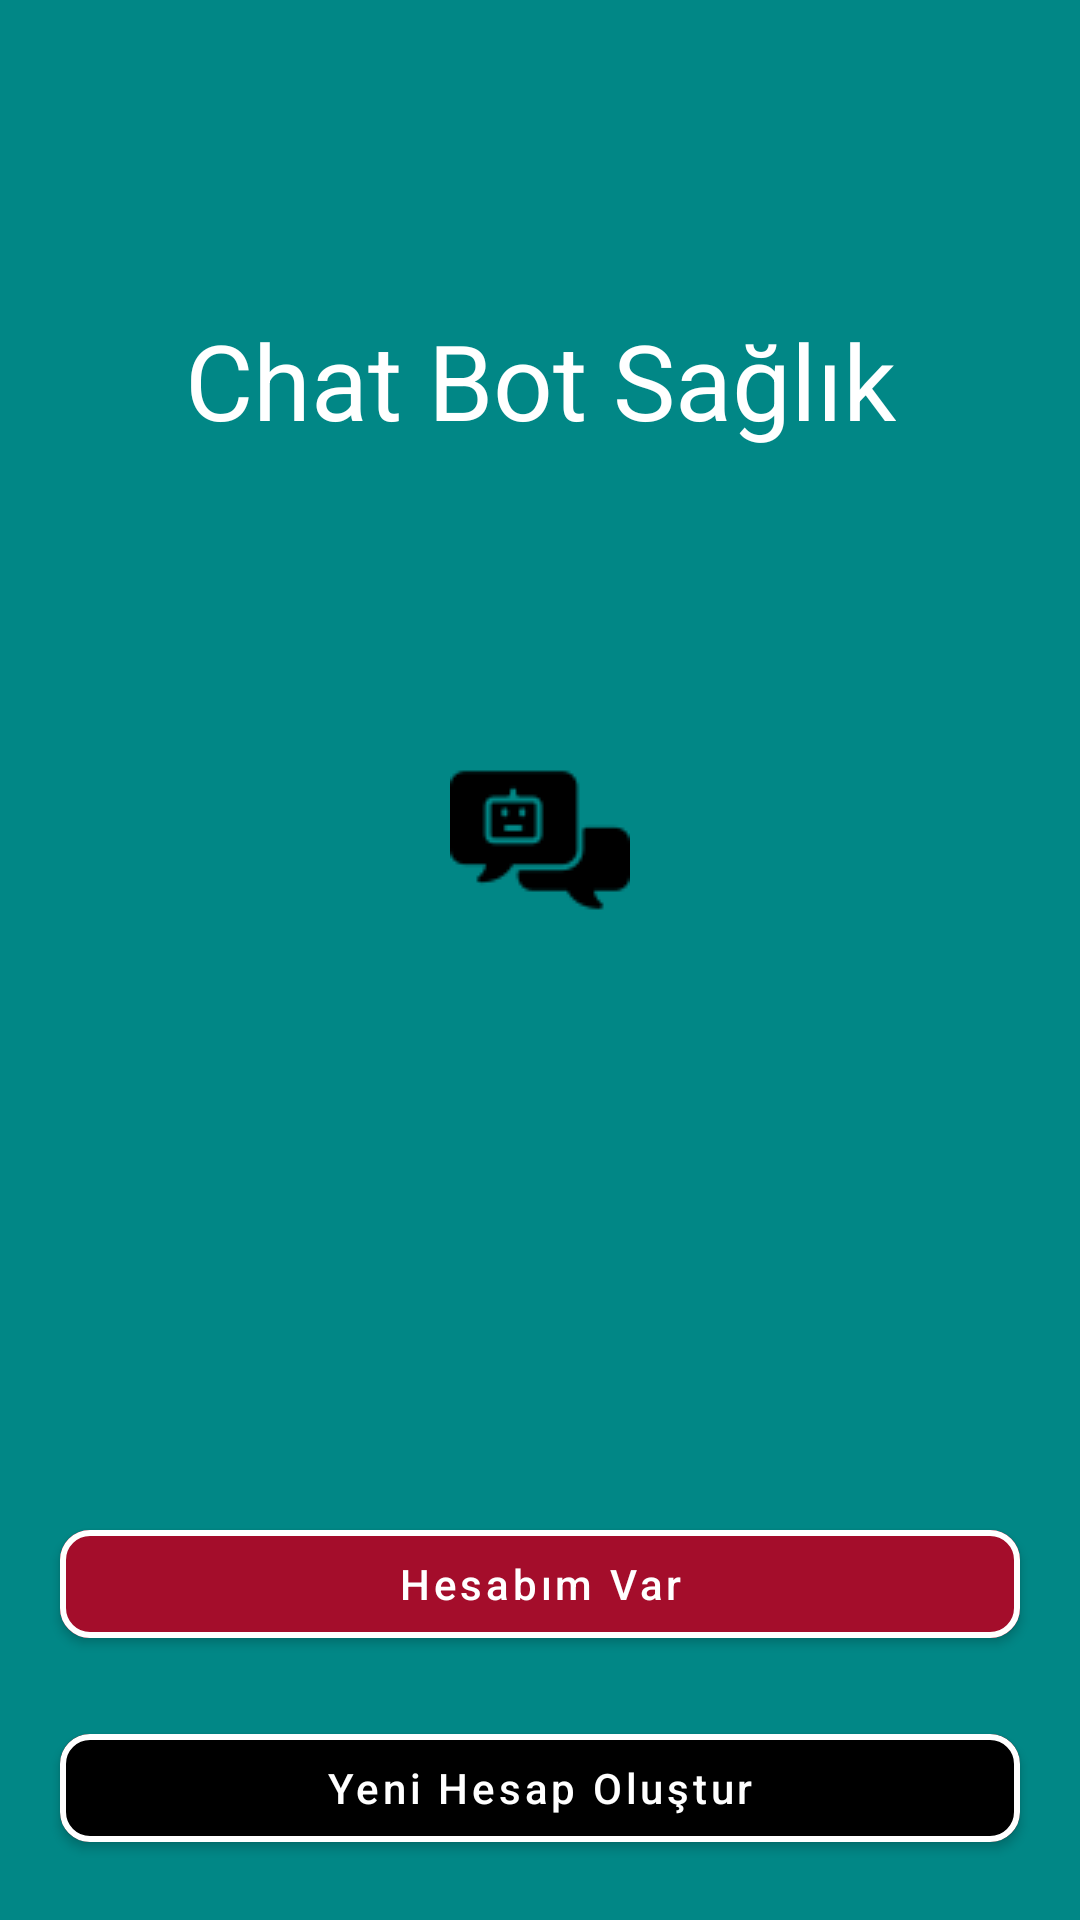

Where icons sit on this 1080×1920 app screen, as (x1, y1, x2, y2):
chatbot: (450, 770, 630, 910)
